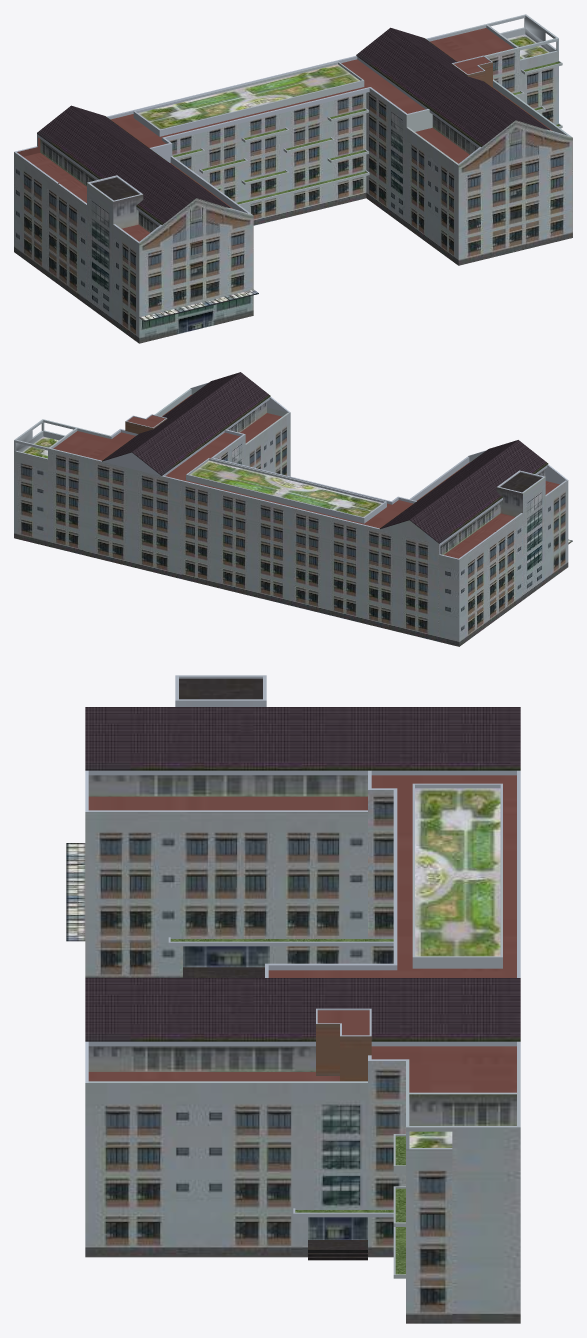
3 renders of one model, top to bottom at view 1: azimuth 30°, elevation 25°; view 2: azimuth 150°, elevation 25°; view 3: azimuth 270°, elevation 25°, orthographic. The views are drawn at different scales.
Visible parts, largest first — view 1: HN1352_GreenSchool; view 2: HN1352_GreenSchool; view 3: HN1352_GreenSchool.
Boxes of the visible parts, bbox=[...] form: HN1352_GreenSchool: bbox=[14, 14, 572, 343]; HN1352_GreenSchool: bbox=[14, 372, 572, 646]; HN1352_GreenSchool: bbox=[66, 675, 520, 1323].
Size of the model in its own units: 85 by 21.02 by 37.57.
Materials: 1 (1 with a texture image).
